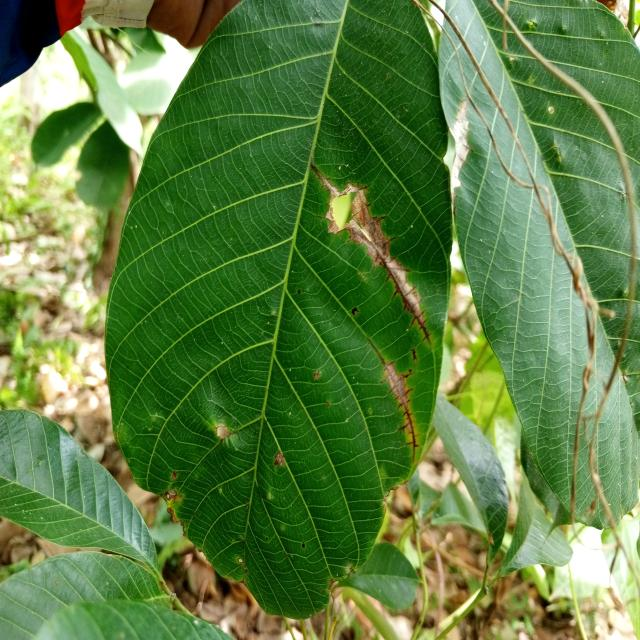Colletotrichum: (548, 106, 554, 115), (238, 558, 244, 563), (166, 494, 170, 499)
Corynespora: (309, 162, 432, 347), (369, 338, 421, 466)
Leaf-Blight: (450, 105, 469, 203)
